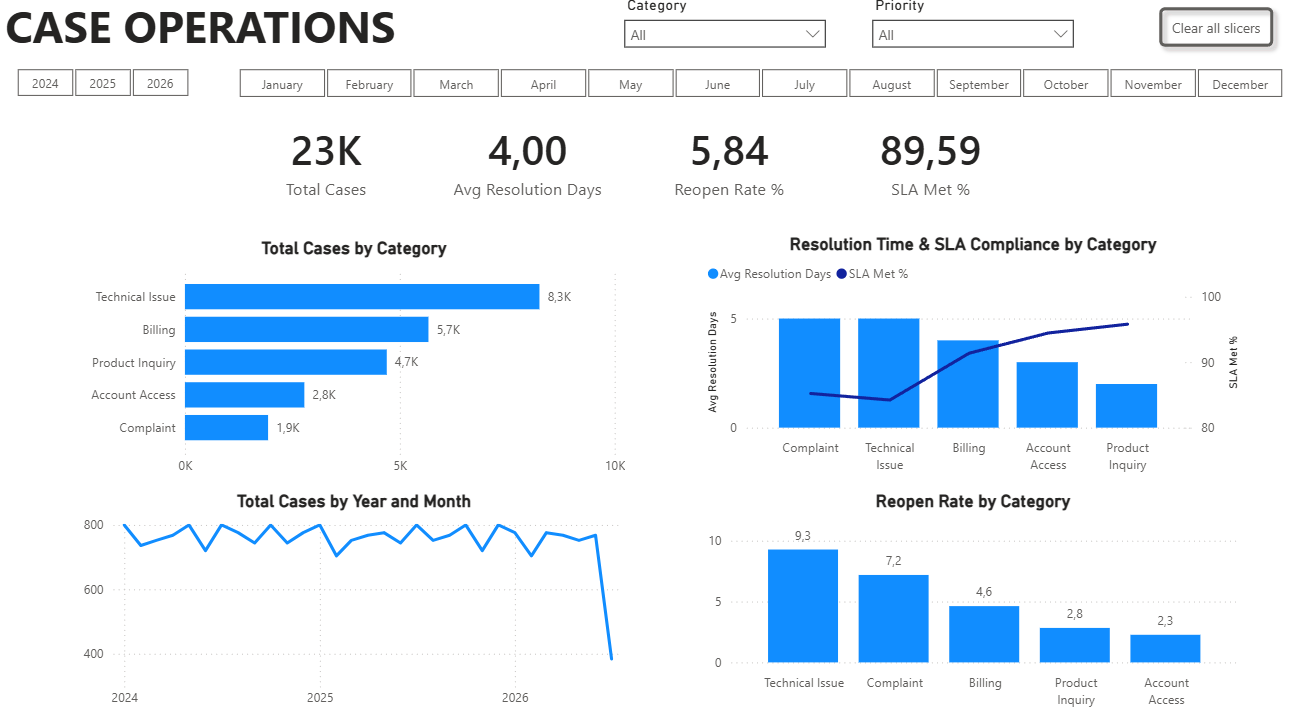

The dashboard page shown, as its layout file describes it:
{"tool":"powerbi","page":{"name":"Case Operations","canvas":[1280,720],"ordinal":2},"visuals":[{"type":"slicer","fields":{"Values":["Calendar.Month"]},"box":[215.5,69.5,1064.5,41.3],"z":0},{"type":"slicer","fields":{"Values":["Calendar.Year"]},"box":[0,69.5,215.5,36.3],"z":1000},{"type":"slicer","fields":{"Values":["Dim_Category.Category"]},"box":[606,0,215.9,69.1],"z":2000},{"type":"slicer","fields":{"Values":["Dim_Priority.Priority"]},"box":[847.2,0,215.9,65.2],"z":3000},{"type":"textbox","box":[8.8,0,484.4,69.1],"z":4000},{"type":"cardVisual","fields":{"Data":["_Measures.Total Cases","_Measures.Avg Resolution Days","_Measures.Reopen Rate %","_Measures.SLA Met %"]},"box":[215.4,106.1,812.7,116.6],"z":5000},{"type":"clusteredBarChart","fields":{"Category":["Dim_Category.Category"],"Y":["_Measures.Total Cases"]},"box":[84.6,240.1,537,239.3],"z":6000},{"type":"clusteredColumnChart","title":"Reopen Rate by Category","fields":{"Y":["_Measures.Reopen Rate %"],"Category":["Dim_Category.Category"]},"box":[691.6,486.4,527.4,217.7],"z":7000},{"type":"lineClusteredColumnComboChart","title":"Resolution Time & SLA Compliance by Category","fields":{"Y":["_Measures.Avg Resolution Days"],"Y2":["_Measures.SLA Met %"],"Category":["Dim_Category.Category"]},"box":[691.6,236.4,527.6,239.3],"z":8000},{"type":"lineChart","title":"Total Cases by Year and Month","fields":{"Y":["_Measures.Total Cases"],"Category":["Calendar.Date.Variation.Date Hierarchy.Year","Calendar.Date.Variation.Date Hierarchy.Month"]},"box":[84.6,486.3,537,219.6],"z":9000},{"type":"actionButton","box":[1127.3,6.8,128.9,56.4],"z":10000}]}

Visuals, with their boxes in screenshot pixels (x1, y1, x2, y2), scaled from the page's 1280x720 canvas onto the 1303x727 screenshot:
slicer - Calendar.Month: 219 70 1302 112
slicer - Calendar.Year: 0 70 219 107
slicer - Dim_Category.Category: 617 0 837 70
slicer - Dim_Priority.Priority: 862 0 1082 66
textbox: 9 0 502 70
cardVisual - _Measures.Total Cases x _Measures.Avg Resolution Days: 219 107 1047 225
clusteredBarChart - Dim_Category.Category x _Measures.Total Cases: 86 242 633 484
"Reopen Rate by Category" clusteredColumnChart: 704 491 1241 711
"Resolution Time & SLA Compliance by Category" lineClusteredColumnComboChart: 704 239 1241 480
"Total Cases by Year and Month" lineChart: 86 491 633 713
actionButton: 1148 7 1279 64
